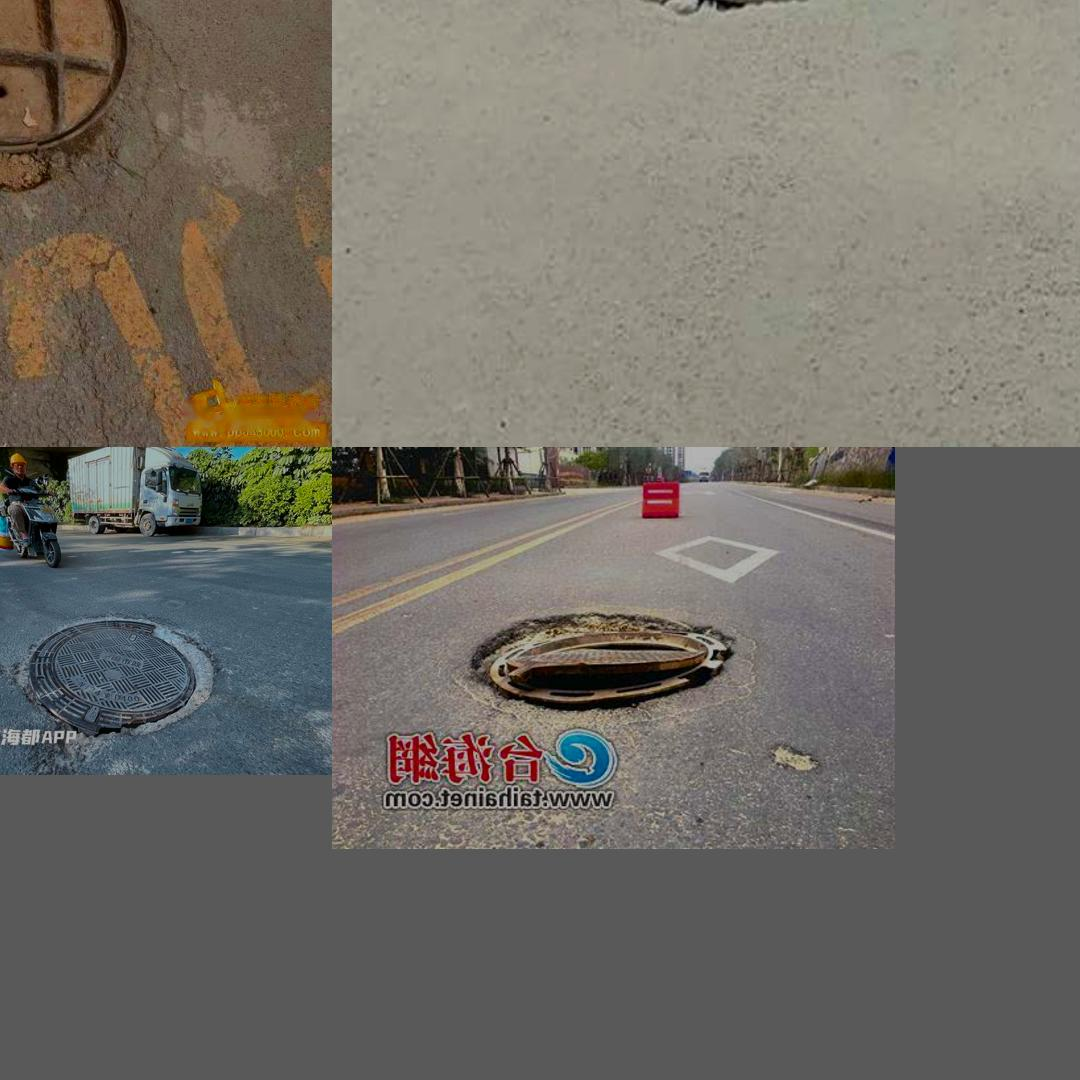circle: (430, 601, 792, 733), (0, 0, 177, 214), (0, 600, 245, 750), (465, 0, 958, 66)
